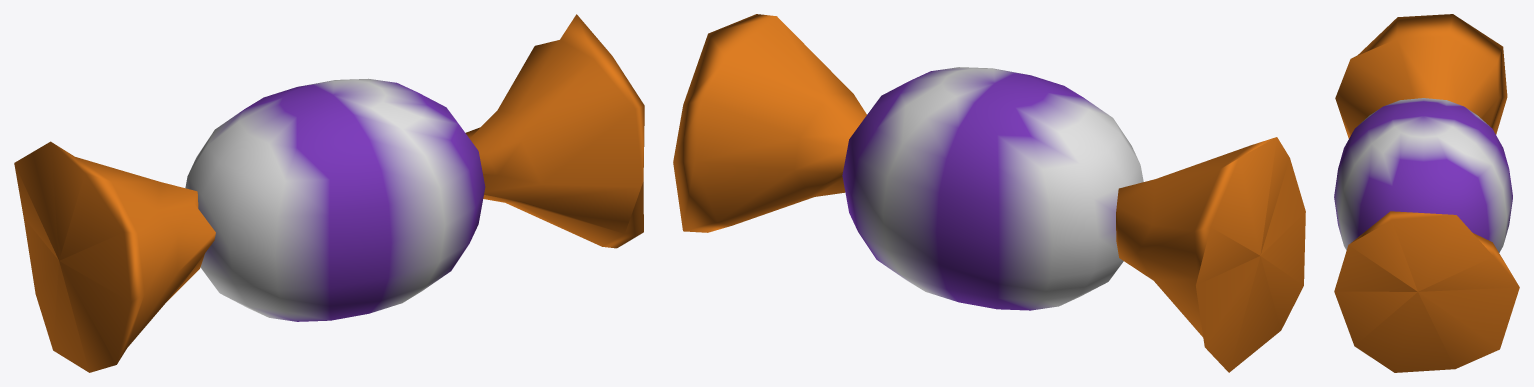
File: 475afcd1-4aa9-4c7b-a0bd-b19a1e5a7762.glb
3 views of the same model, side by side, from view 1: azimuth 30°, elevation 25°; view 2: azimuth 150°, elevation 25°; view 3: azimuth 270°, elevation 25° (orthographic). The views are drawn at different scales.
Visible parts, largest first — view 1: Body; view 2: Body; view 3: Body.
Part boxes in pixels (x1,y1,x2,y2): Body: [14, 14, 644, 372]; Body: [673, 14, 1305, 372]; Body: [1334, 14, 1519, 372].
Size of the model in its own units: 0.5898 by 0.2239 by 0.2283.
